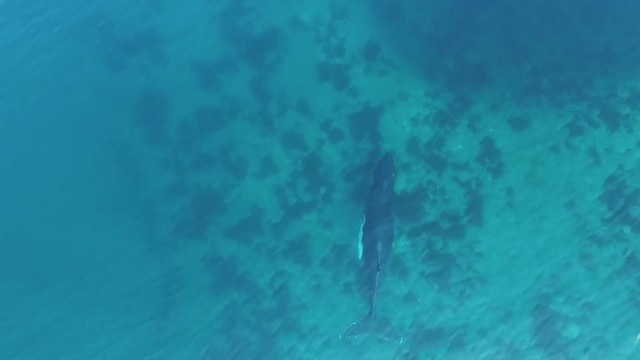whale: (331, 147, 415, 355)
